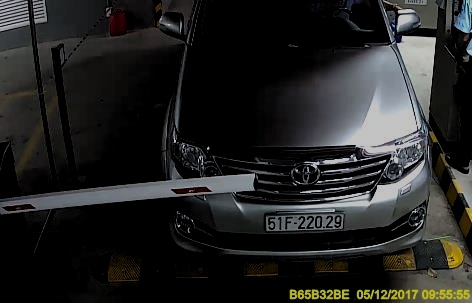plate: (266, 210, 345, 232)
